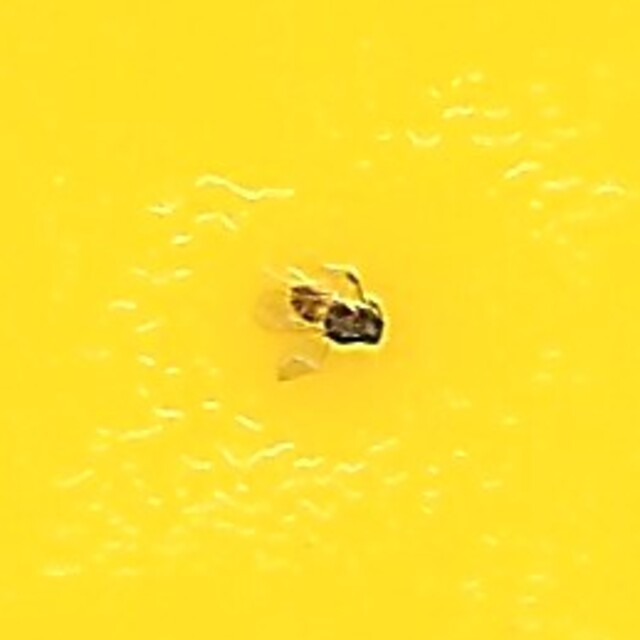Hymenoptera: (247, 259, 393, 381)
